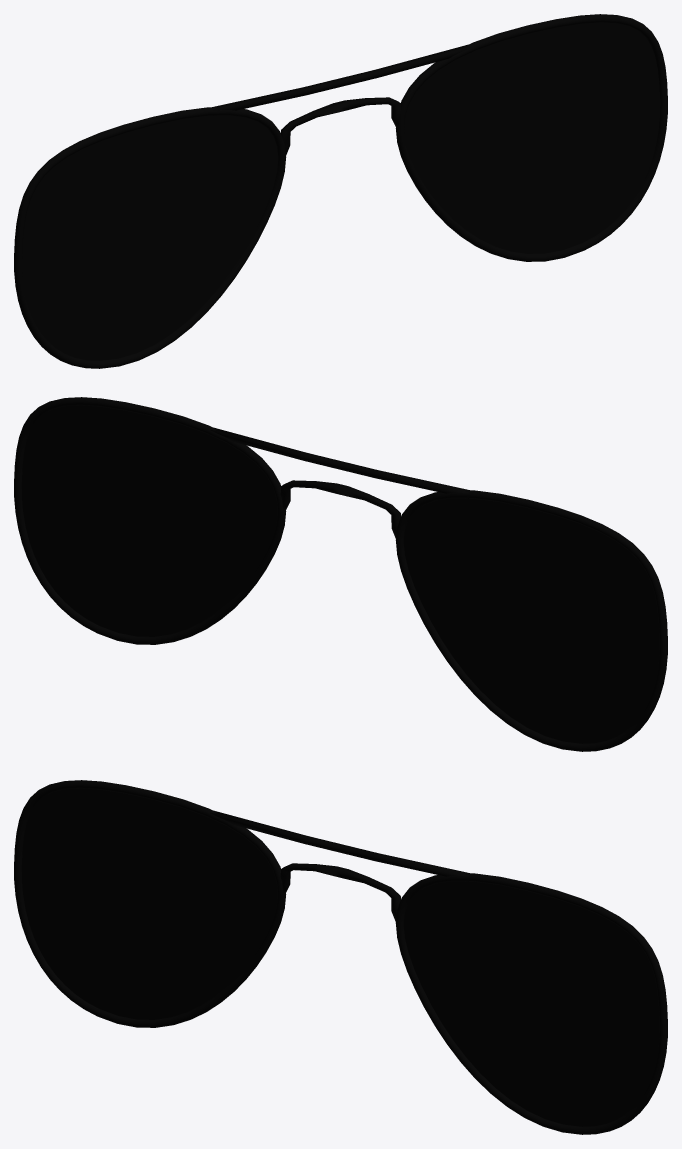
Rendered from Dev Sunglasses.fbx.
The picture shows the model from 3 angles, top to bottom: view 1: azimuth 30°, elevation 25°; view 2: azimuth 150°, elevation 25°; view 3: azimuth 330°, elevation 25°; orthographic projection.
Visible parts, largest first — view 1: Dev Sunglasses; view 2: Dev Sunglasses; view 3: Dev Sunglasses.
Boxes of the visible parts, x1,y1,x2,y2 form: Dev Sunglasses: (14, 14, 667, 368); Dev Sunglasses: (14, 397, 667, 751); Dev Sunglasses: (14, 780, 667, 1134).
Size of the model in its own units: 1571 by 553 by 17.36.
1 material, 1 textured.
